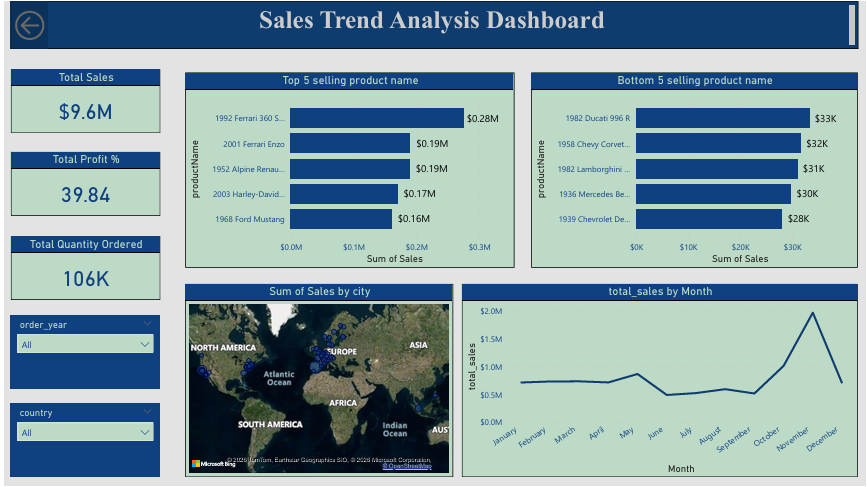

This screenshot's page, from the dashboard's own definition file:
{"tool":"powerbi","page":{"name":"Sales Trend Analysis","canvas":[1280,720],"ordinal":2},"visuals":[{"type":"textbox","box":[9.9,0,1258.6,70.9],"z":0},{"type":"card","title":"Total Sales","fields":{"Values":["Sum(order details.Sales)"]},"box":[9.9,100.6,222.5,95],"z":1000},{"type":"lineChart","fields":{"Y":["customers.total_sales"],"Category":["orders.orderDate.Variation.Date Hierarchy.Year","orders.orderDate.Variation.Date Hierarchy.Quarter","orders.orderDate.Variation.Date Hierarchy.Month","orders.orderDate.Variation.Date Hierarchy.Day"]},"box":[680.3,419.9,587.9,287.2],"z":2000},{"type":"card","title":"Total Profit %","fields":{"Values":["order details.profit_per"]},"box":[9.9,223.9,222.5,95],"z":3000},{"type":"card","title":"Total Quantity Ordered","fields":{"Values":["Sum(order details.quantityOrdered)"]},"box":[9.9,348.7,222.5,95],"z":4000},{"type":"barChart","title":"Top 5 selling product name","fields":{"Category":["products.productName"],"Y":["Sum(order details.Sales)"]},"box":[268.8,105.8,488.8,290.6],"z":5000},{"type":"barChart","title":"Bottom 5 selling product name","fields":{"Category":["products.productName"],"Y":["Sum(order details.Sales)"]},"box":[782.8,105.8,485.5,290.6],"z":6000},{"type":"slicer","fields":{"Values":["customers.country"]},"box":[10.1,598,221.7,109.2],"z":7000},{"type":"slicer","fields":{"Values":["orders.order_year"]},"box":[10.1,467,221.7,109.2],"z":8000},{"type":"map","fields":{"Category":["customers.city"],"Size":["Sum(order details.Sales)"]},"box":[268.8,419.9,398.1,287.2],"z":9000},{"type":"actionButton","box":[10.1,0,55.4,70.6],"z":10000}]}

Visuals, with their boxes in screenshot pixels (x1, y1, x2, y2), scaled from the page's 1280x720 canvas onto the 867x487 screenshot:
textbox: {"x1": 7, "y1": 0, "x2": 859, "y2": 48}
"Total Sales" card: {"x1": 7, "y1": 68, "x2": 157, "y2": 132}
lineChart - customers.total_sales x orders.orderDate.Variation.Date Hierarchy.Year: {"x1": 461, "y1": 284, "x2": 859, "y2": 478}
"Total Profit %" card: {"x1": 7, "y1": 151, "x2": 157, "y2": 216}
"Total Quantity Ordered" card: {"x1": 7, "y1": 236, "x2": 157, "y2": 300}
"Top 5 selling product name" barChart: {"x1": 182, "y1": 72, "x2": 513, "y2": 268}
"Bottom 5 selling product name" barChart: {"x1": 530, "y1": 72, "x2": 859, "y2": 268}
slicer - customers.country: {"x1": 7, "y1": 404, "x2": 157, "y2": 478}
slicer - orders.order_year: {"x1": 7, "y1": 316, "x2": 157, "y2": 390}
map - customers.city x Sum(order details.Sales): {"x1": 182, "y1": 284, "x2": 452, "y2": 478}
actionButton: {"x1": 7, "y1": 0, "x2": 44, "y2": 48}
